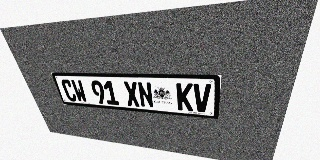1: (101, 81, 119, 105)
9: (90, 80, 107, 104)
C: (60, 79, 78, 102)
K: (176, 83, 193, 111)
N: (137, 82, 154, 108)
V: (193, 83, 211, 113)
W: (70, 80, 88, 103)
X: (123, 81, 140, 107)
